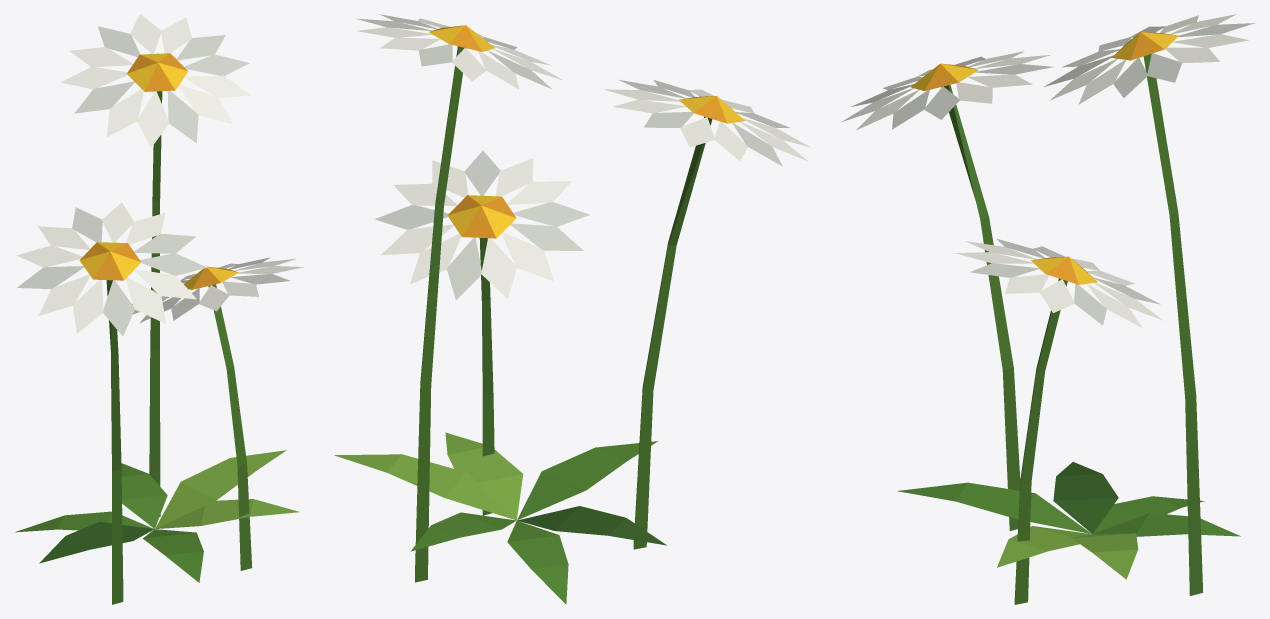
The model's file is daisy_cluster.fbx.
3 views of the same model, side by side, from view 1: azimuth 30°, elevation 25°; view 2: azimuth 150°, elevation 25°; view 3: azimuth 270°, elevation 25° (orthographic). The views are drawn at different scales.
Parts seen in each view (by area): view 1: daisy_cluster; view 2: daisy_cluster; view 3: daisy_cluster.
Boxes of the visible parts, x1,y1,x2,y2 form: daisy_cluster: [15, 14, 304, 604]; daisy_cluster: [334, 14, 810, 604]; daisy_cluster: [841, 14, 1254, 604].
Size of the model in its own units: 15.06 by 20.83 by 14.02.
1 material, 1 textured.
